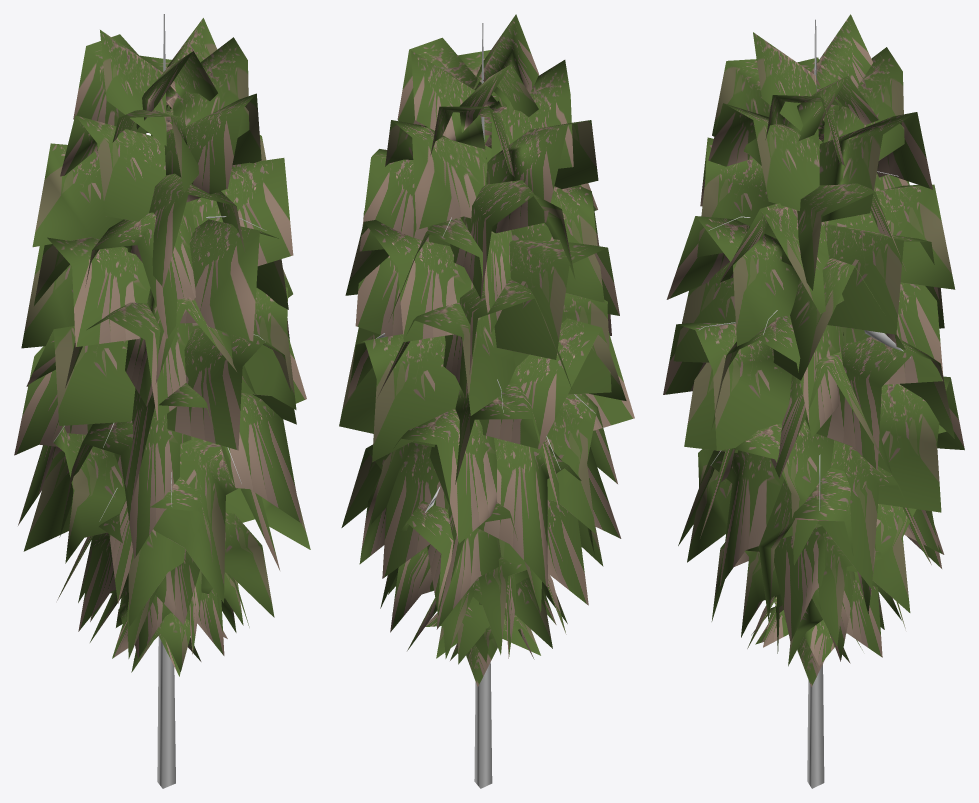
Rendered from spruce_tree_a_lod2.fbx.
3 views of the same model, side by side, from view 1: azimuth 30°, elevation 25°; view 2: azimuth 150°, elevation 25°; view 3: azimuth 270°, elevation 25° (orthographic).
Visible parts, largest first — view 1: LOD2; view 2: LOD2; view 3: LOD2.
Part boxes in pixels (x1,y1,x2,y2): LOD2: [14, 14, 310, 788]; LOD2: [339, 14, 634, 788]; LOD2: [663, 14, 964, 788].
Bounding box in the file's own units: 1417 × 4174 × 1494.
